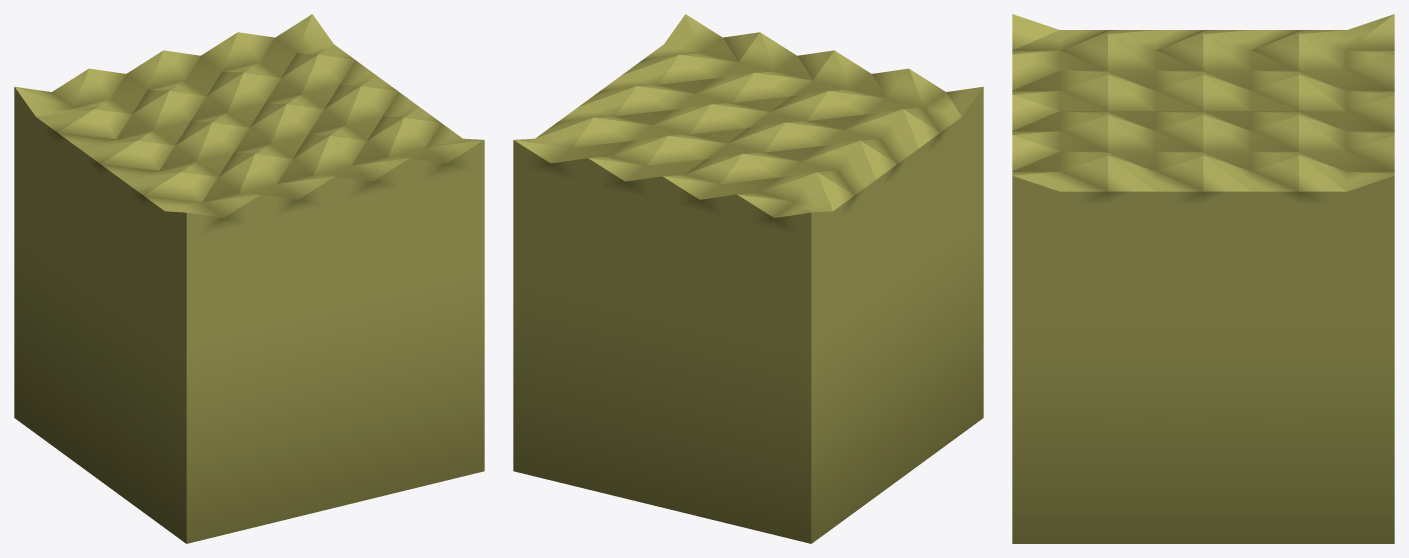
The model's file is Foresttile_01.fbx.
3 views of the same model, side by side, from view 1: azimuth 30°, elevation 25°; view 2: azimuth 150°, elevation 25°; view 3: azimuth 270°, elevation 25° (orthographic). The views are drawn at different scales.
Parts seen in each view (by area): view 1: Forest_TILE_01; view 2: Forest_TILE_01; view 3: Forest_TILE_01.
Boxes of the visible parts, x1,y1,x2,y2 form: Forest_TILE_01: (14,14,484,543); Forest_TILE_01: (513,14,983,543); Forest_TILE_01: (1012,14,1394,543).
Bounding box in the file's own units: 79.9 × 84.9 × 79.9.
